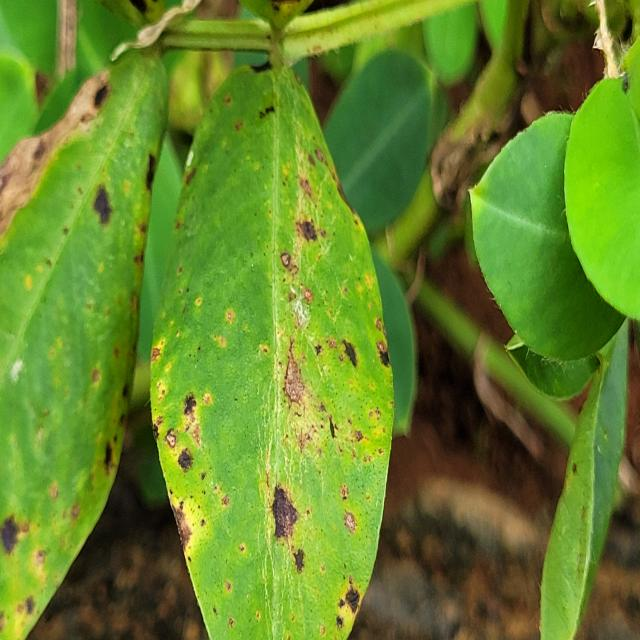Ground nut_tikka leaf spot: (150, 59, 397, 640), (0, 31, 162, 631)
